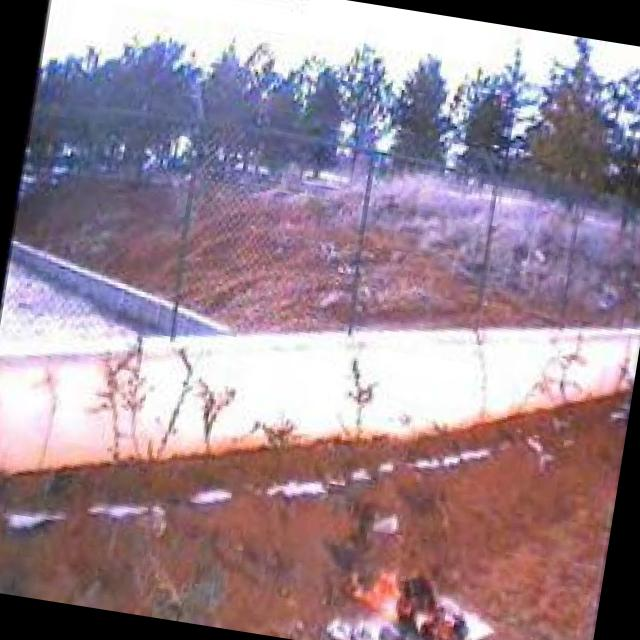Fire: (334, 554, 480, 640)
